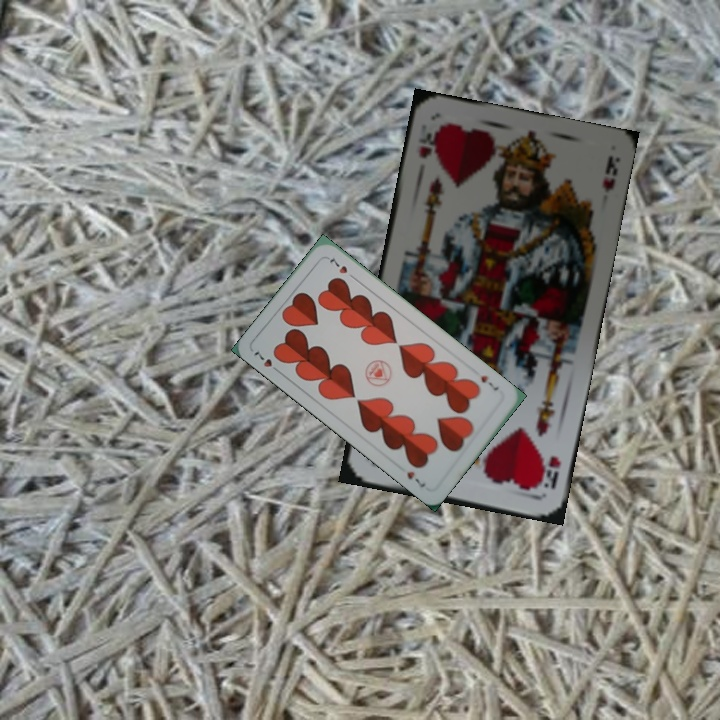H7: (249, 347, 284, 376), (476, 371, 501, 393)
HK: (533, 452, 564, 493), (414, 120, 443, 161)
